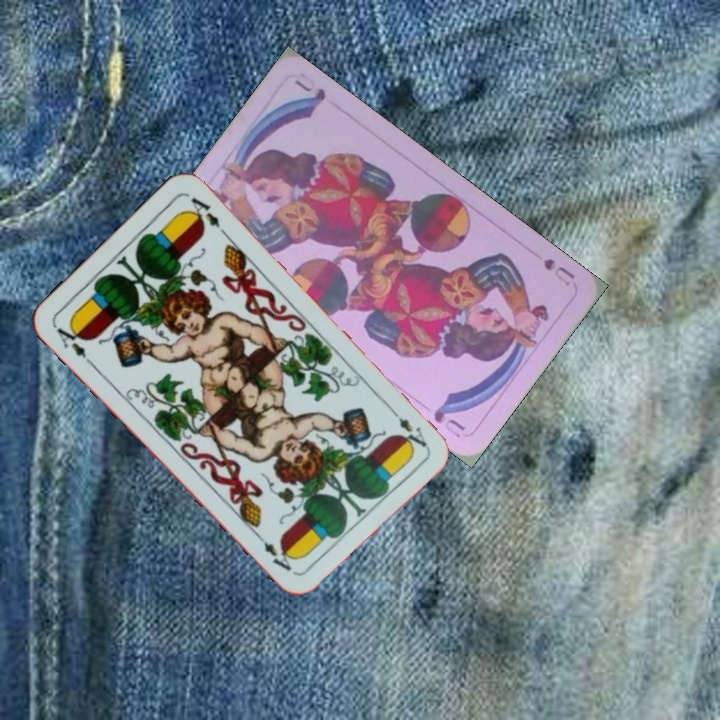EA: (384, 402, 430, 450), (51, 321, 96, 369)
SU: (539, 254, 578, 289)
